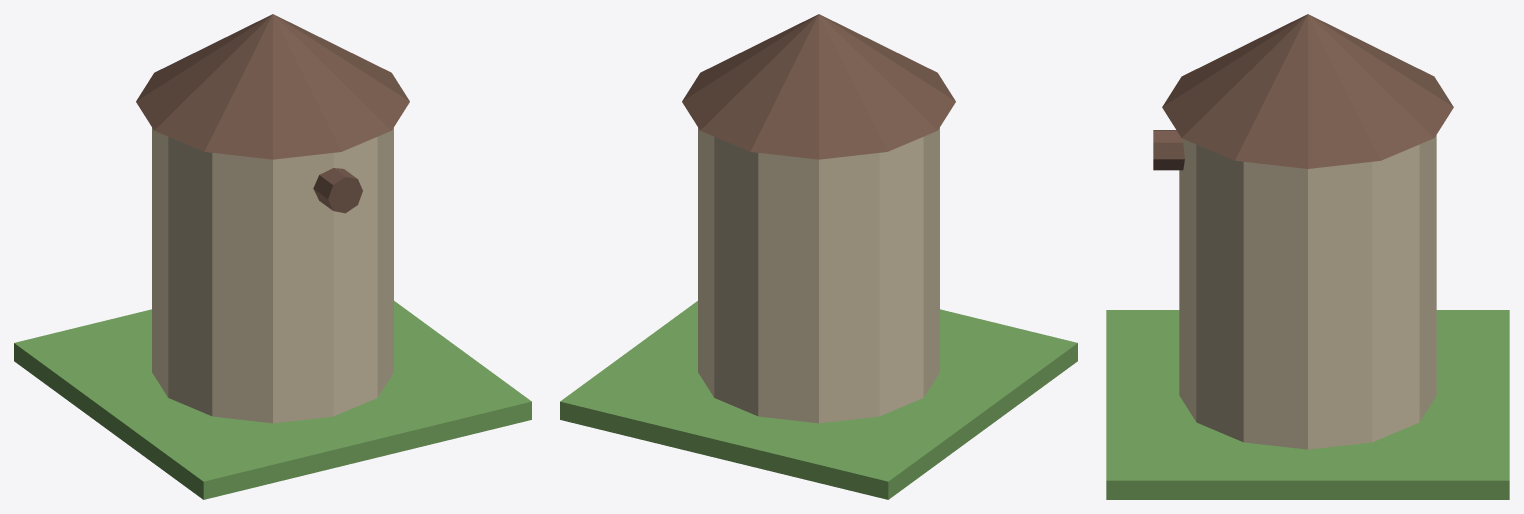
The model's file is mill.glb.
3 views of the same model, side by side, from view 1: azimuth 30°, elevation 25°; view 2: azimuth 150°, elevation 25°; view 3: azimuth 270°, elevation 25° (orthographic). The views are drawn at different scales.
Visible parts, largest first — view 1: mill; view 2: mill; view 3: mill.
Boxes of the visible parts, x1,y1,x2,y2 form: mill: (14,14,531,499); mill: (560,14,1077,499); mill: (1106,14,1509,499).
Bounding box in the file's own units: 0.94 × 1.03 × 0.94.
